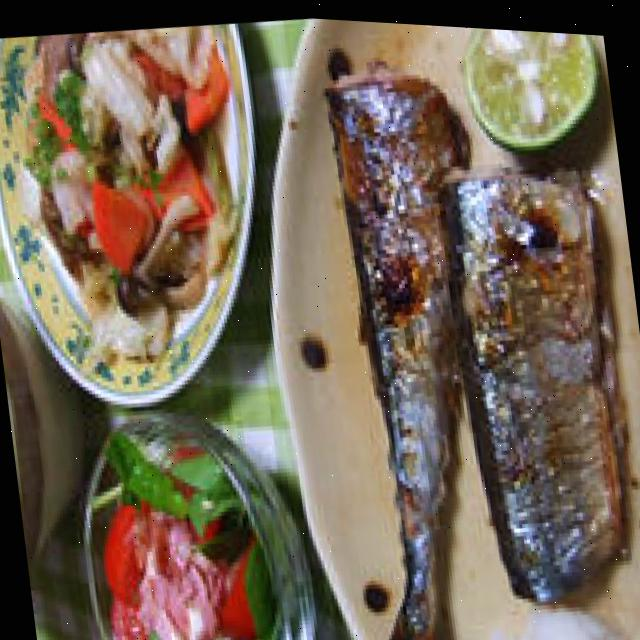熟制海鲜: (228, 11, 640, 640)
